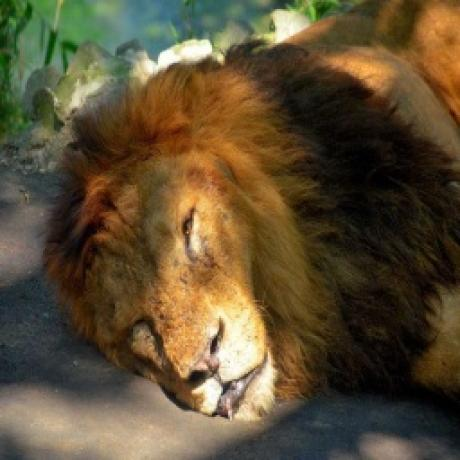Lion: (41, 0, 460, 419)
